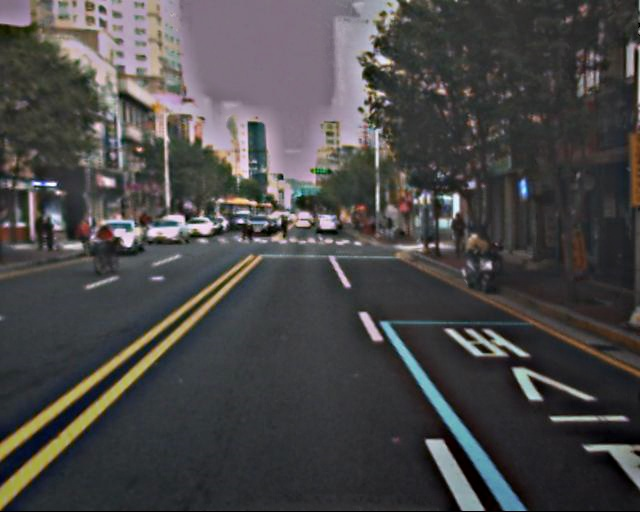person: (450, 212, 470, 260), (33, 216, 57, 253)
